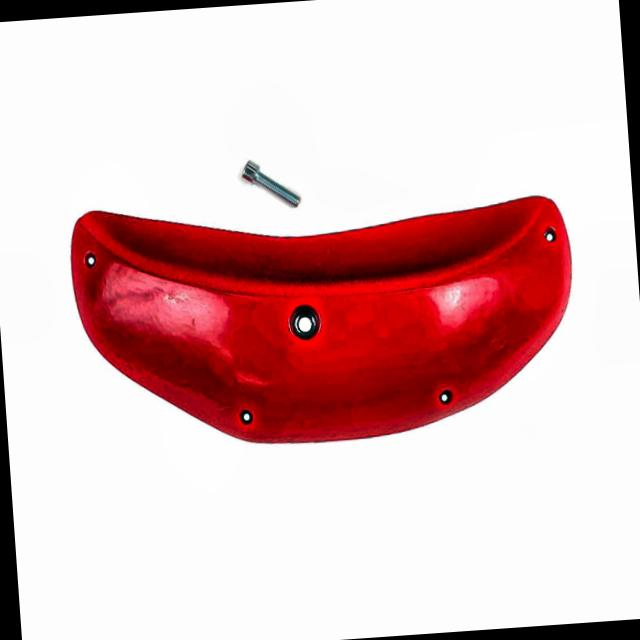Hold: (61, 189, 592, 460)
